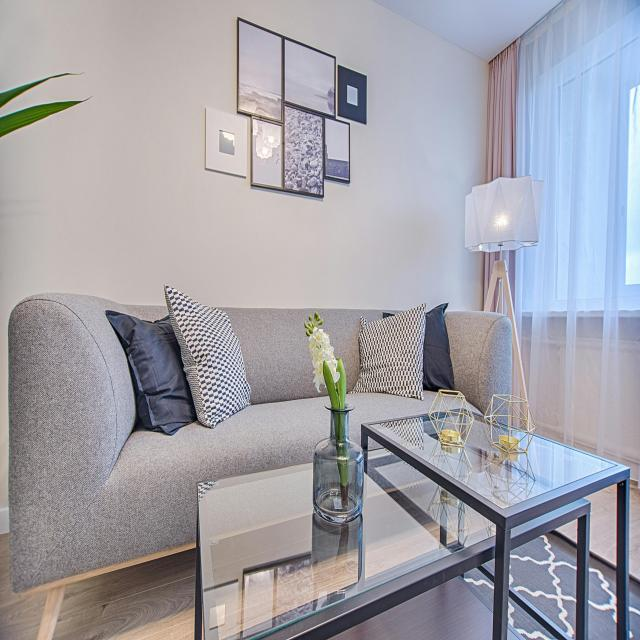sofa: (7, 291, 514, 595)
